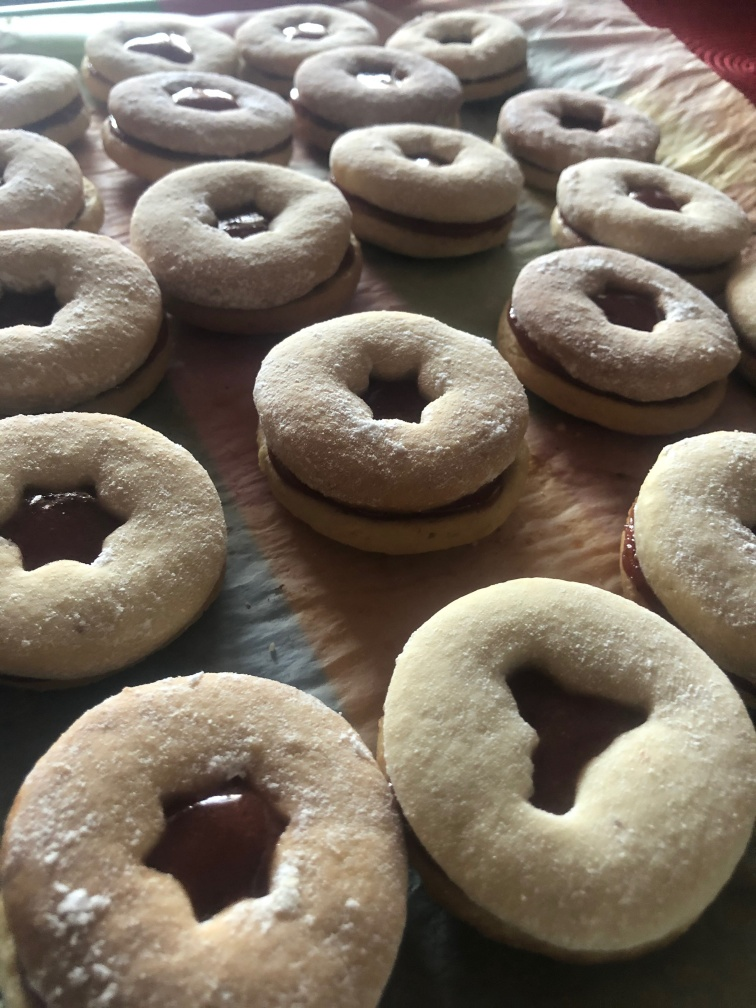christmas shortbread with jam: (381, 571, 754, 953), (13, 668, 409, 1008), (251, 307, 523, 545), (3, 415, 227, 678), (499, 245, 735, 436), (132, 161, 362, 332), (619, 424, 756, 666), (1, 229, 169, 407), (330, 125, 516, 254), (553, 157, 748, 274), (292, 45, 460, 142), (499, 90, 660, 185), (78, 13, 235, 101), (388, 9, 532, 92), (236, 4, 375, 84), (1, 55, 93, 137)
